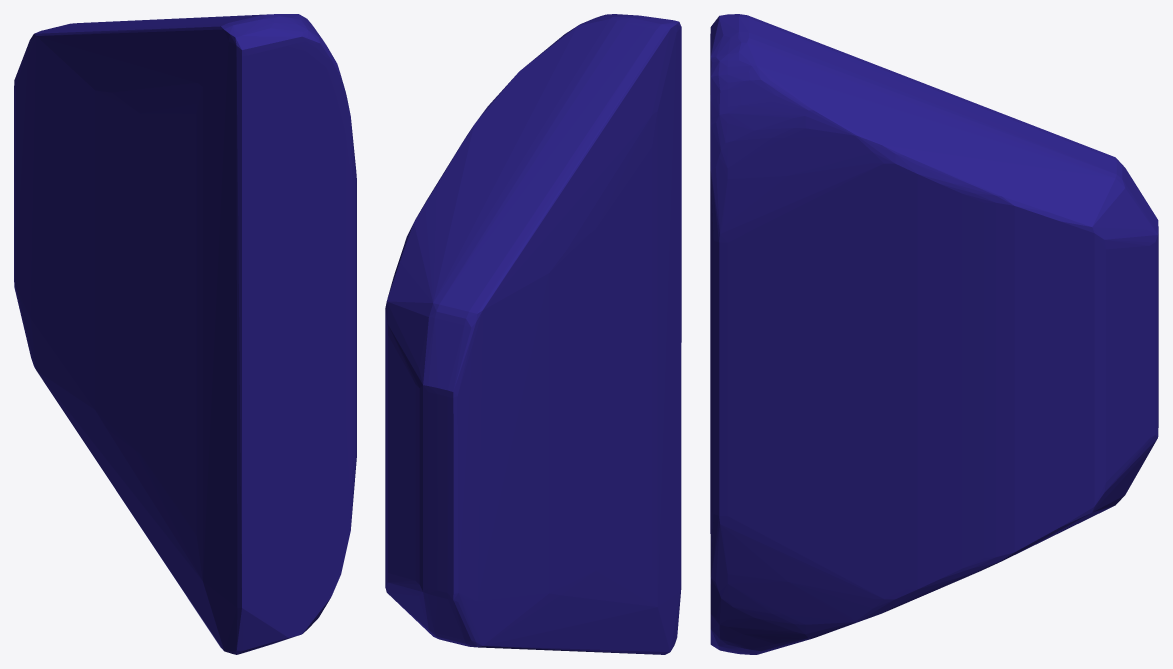
The picture shows the model from 3 angles, left to right: view 1: azimuth 30°, elevation 25°; view 2: azimuth 150°, elevation 25°; view 3: azimuth 270°, elevation 25°; orthographic projection. The views are drawn at different scales.
Size of the model in its own units: 0.0488 by 0.2195 by 0.1449.
